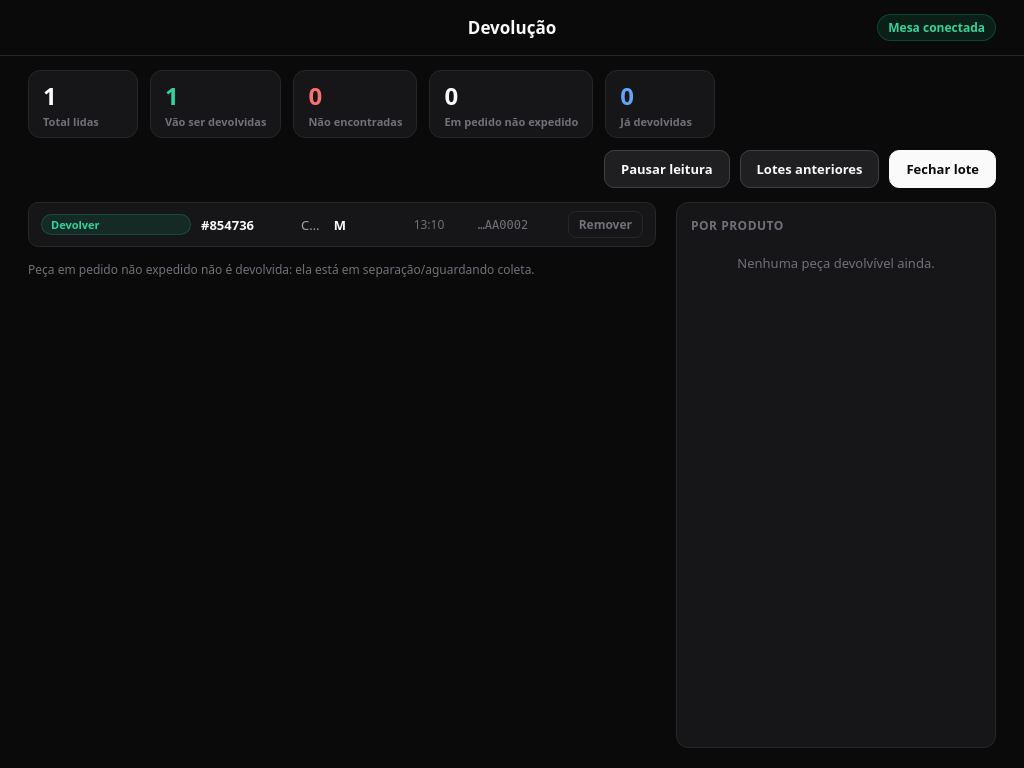
Test: Devolução › erro de rede no fechar com lote já fechado no Nexus vai pro resultado
Click the button "Fechar lote".
click(943, 169)  # box [890,150,996,188]
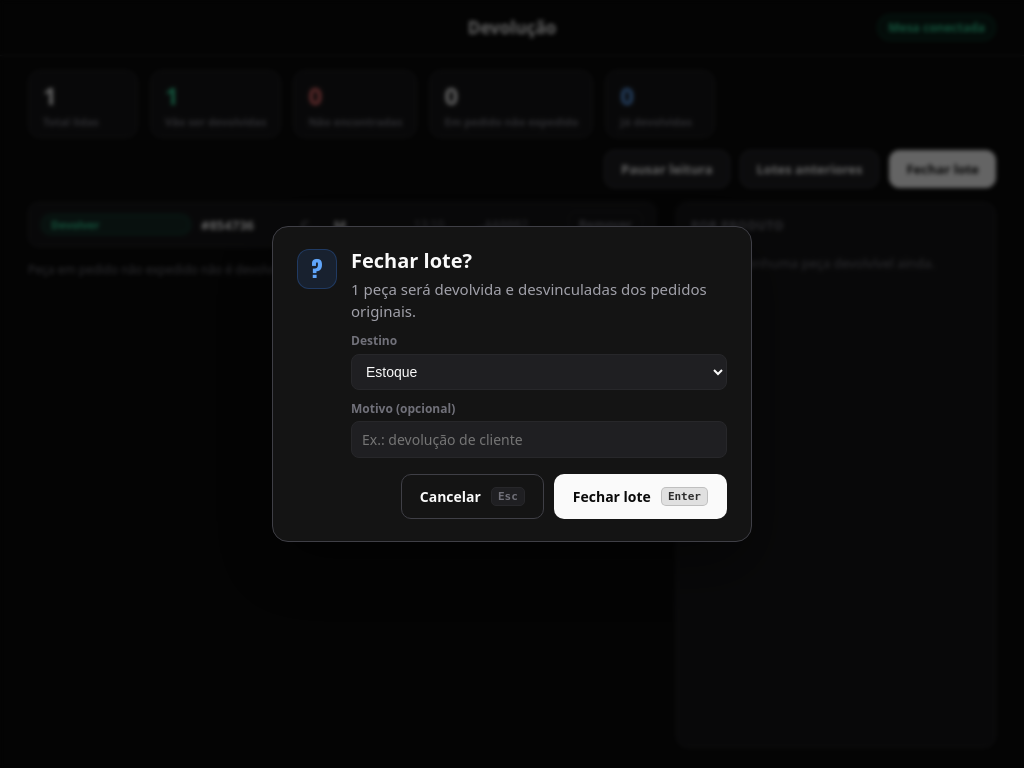
Click the button "Fechar lote Enter".
click(640, 497)  # box [554,474,727,519]
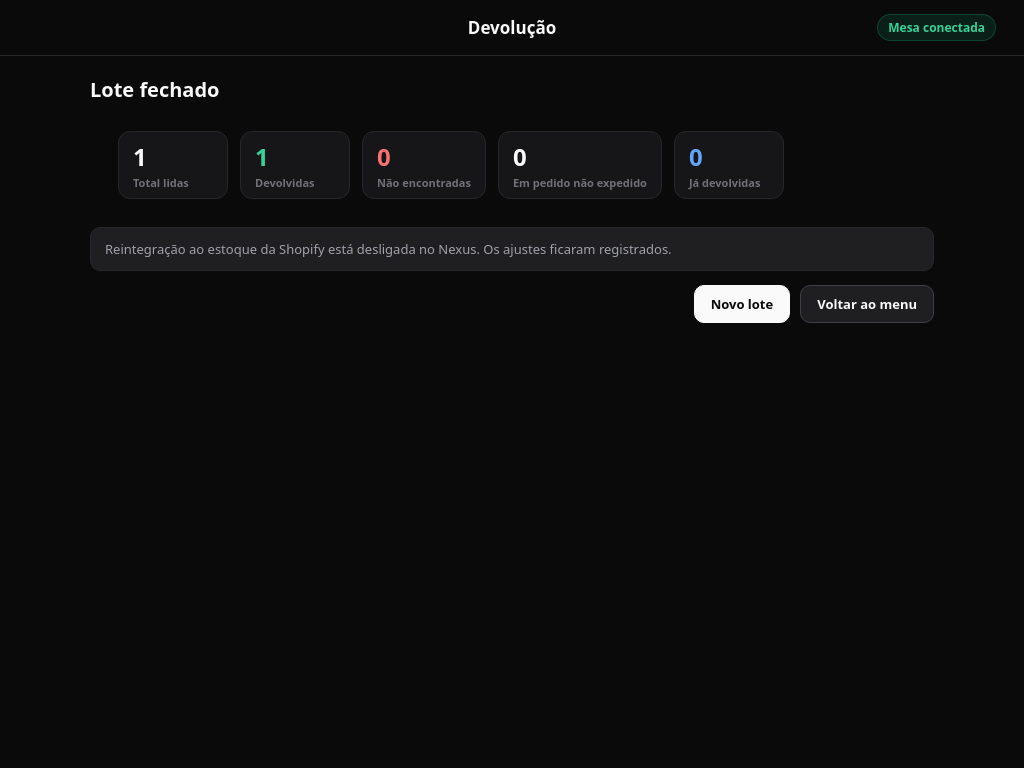
Result: the heading "Lote fechado" is shown at [90,76,220,103]
Result: the text "está desligada no Nexus" is shown at [105,240,672,258]
